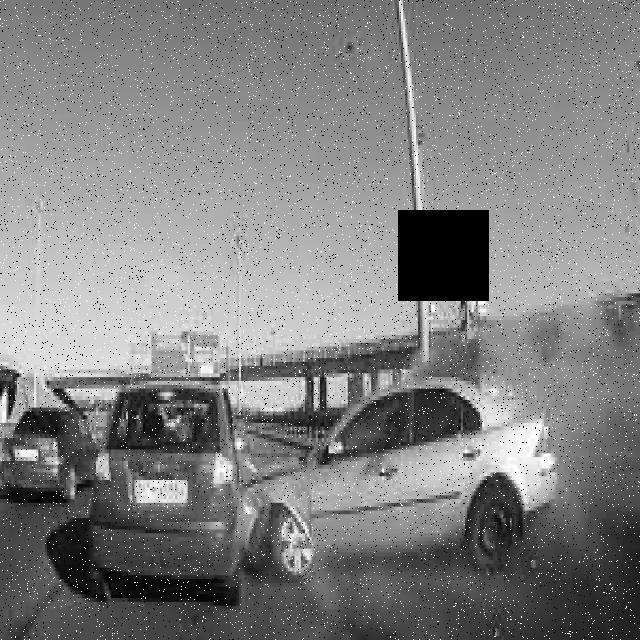accident: (80, 354, 562, 602)
